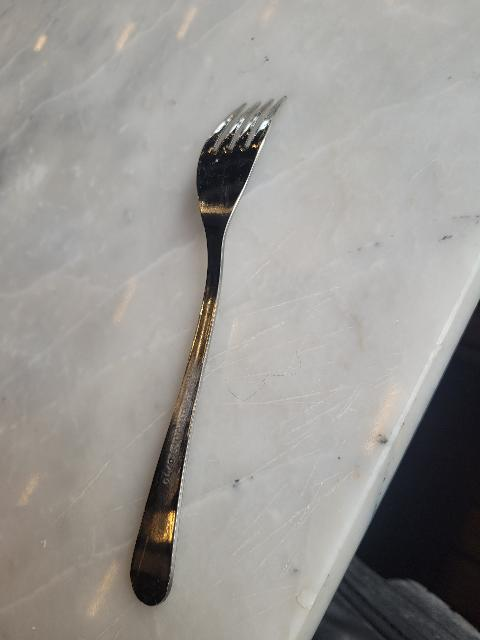Metal: (129, 93, 292, 606)
